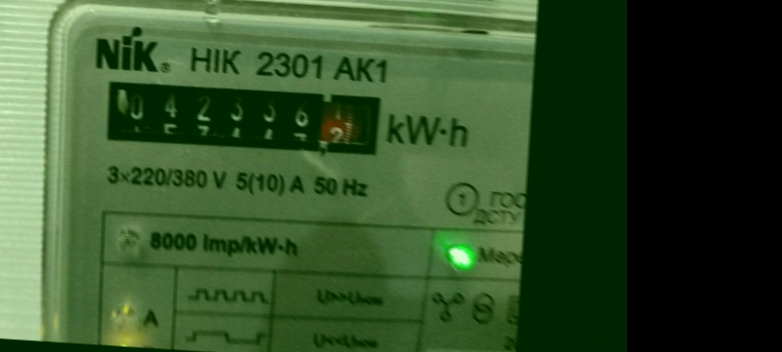0: (128, 90, 145, 119)
1: (331, 97, 344, 119)
2: (196, 90, 213, 120), (328, 123, 345, 142)
3: (260, 91, 277, 122), (228, 91, 244, 120)
4: (162, 87, 181, 117)
6: (293, 95, 312, 126)
screen: (94, 65, 394, 164)
